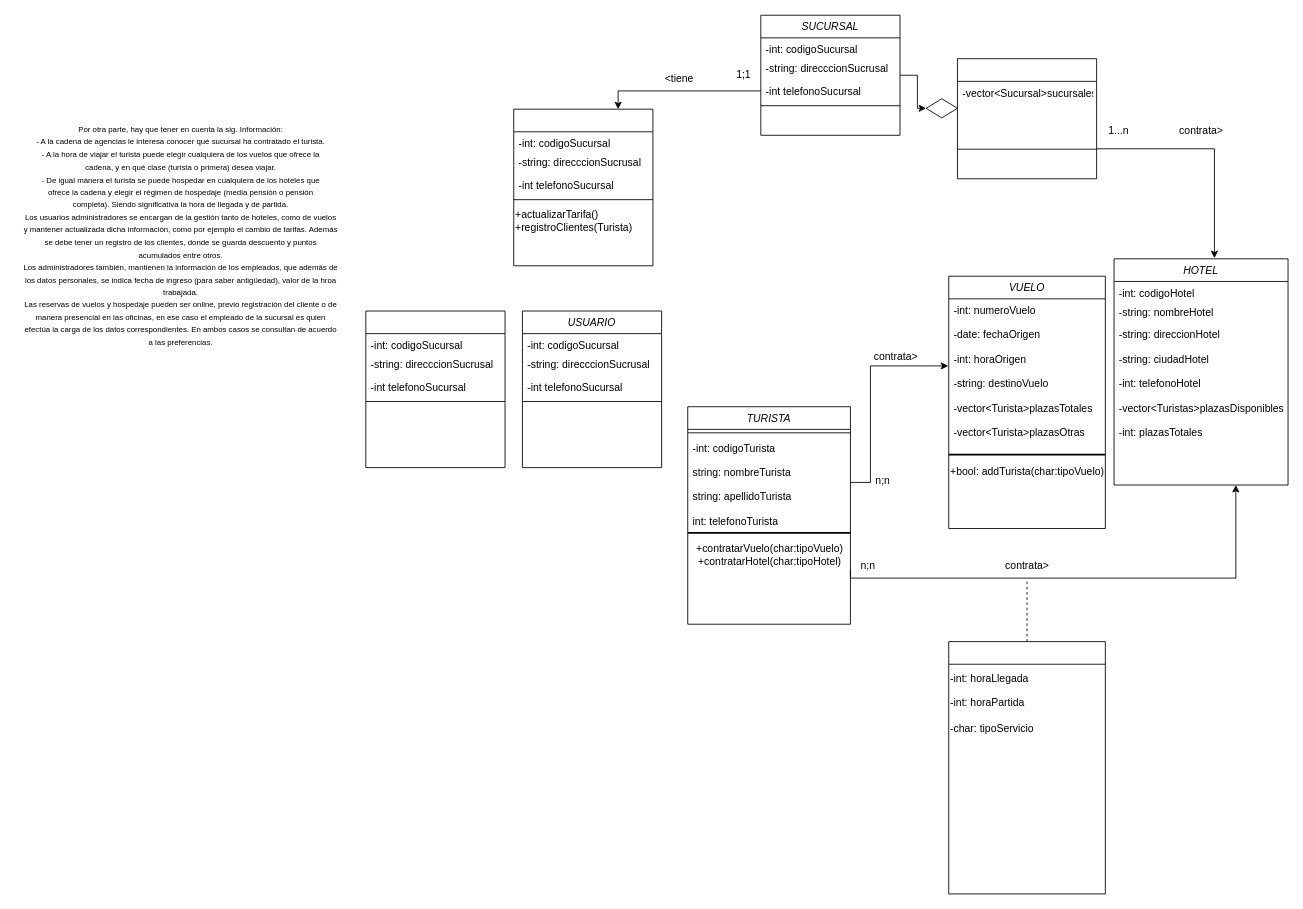
Image size: 1303x909. Some labels were removed from this diagram. The box of each missing label's shape, as (x1, y1, x2, y2) in pixels:
ADMIN: (513, 108, 653, 266)
AGENCIA: (957, 58, 1097, 179)
TICKET: (948, 641, 1105, 894)
